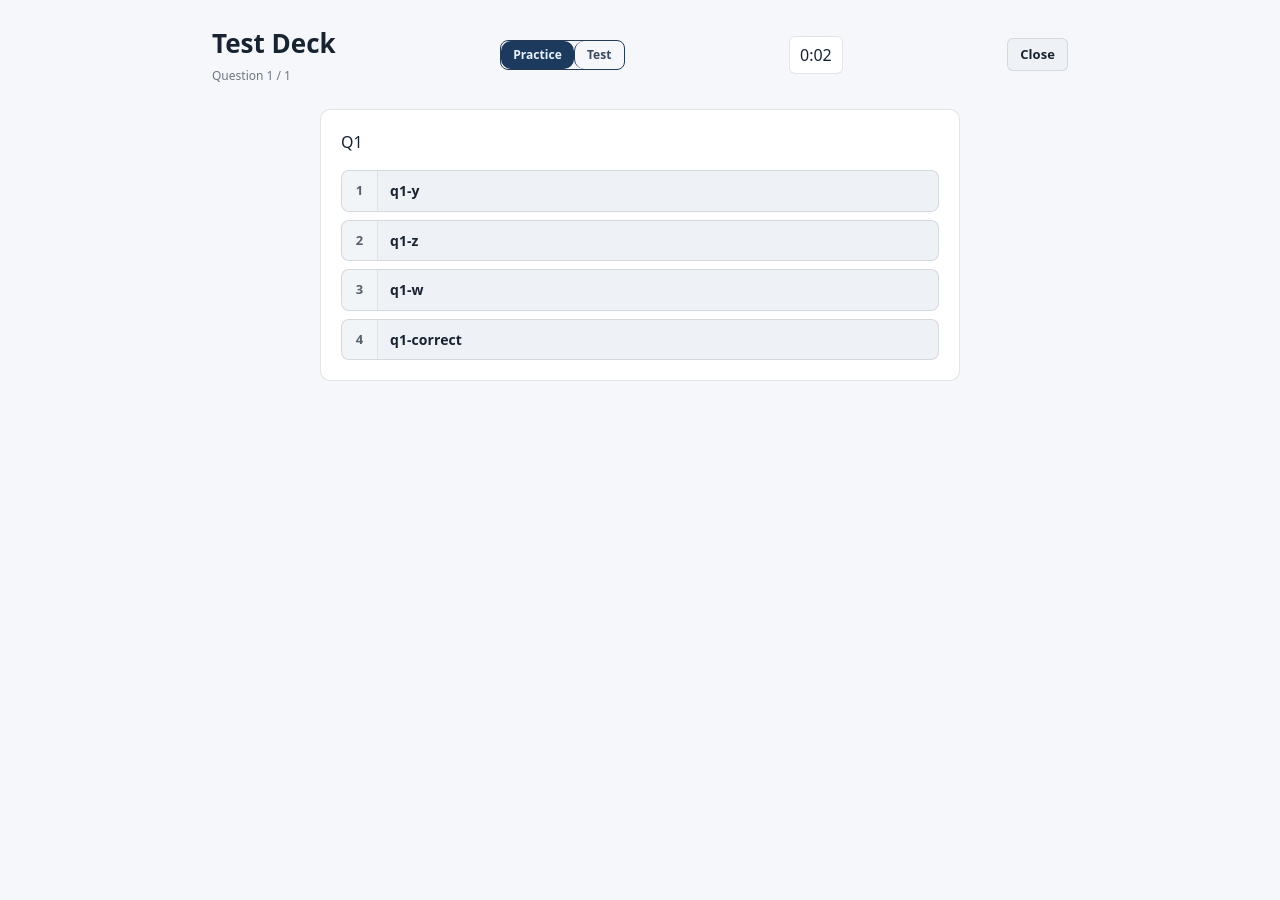
QuizRunner › clicking the citation chip mounts the source-viewer modal
Expected: the text "Q1" is shown, [341, 131, 363, 153]
Click the text "q1-correct". click: (426, 339)
box: [390, 330, 462, 349]
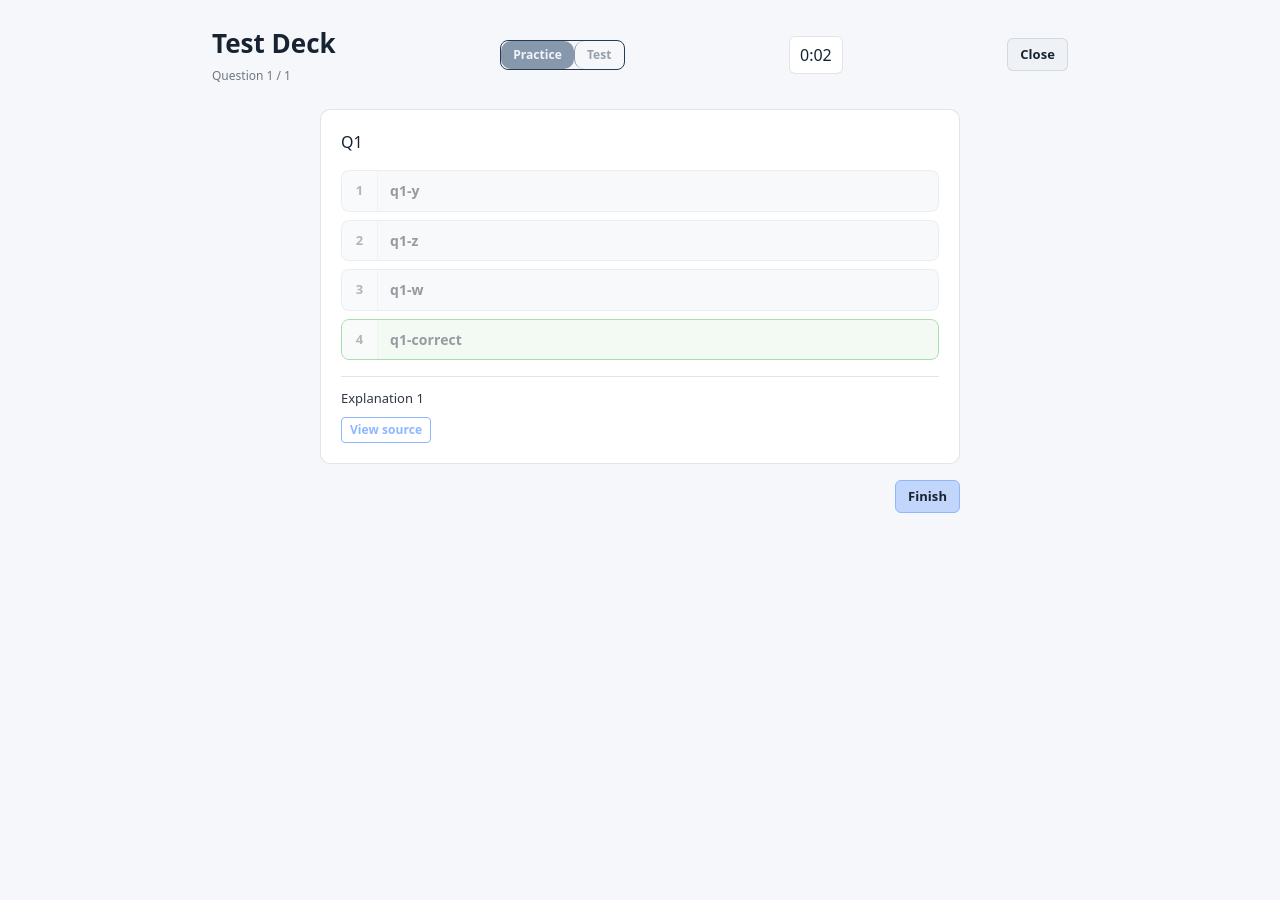
Click the button "View source". click: (386, 430)
box: [341, 417, 431, 443]
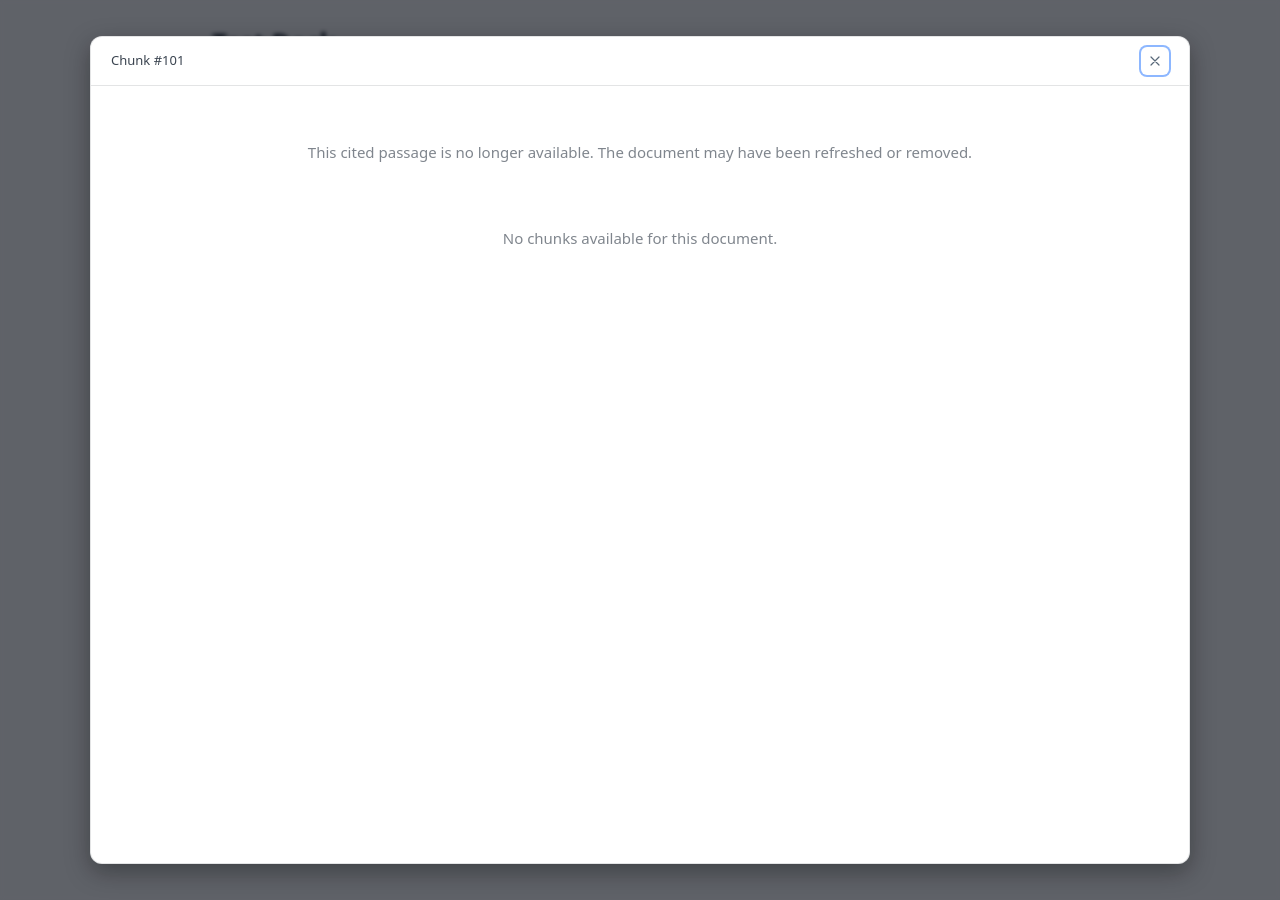
Now the dialog is shown
